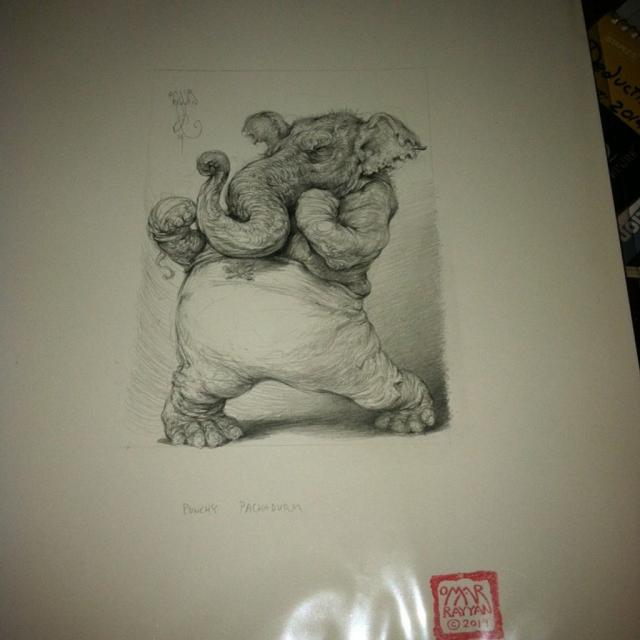elephant: (144, 104, 434, 457)
